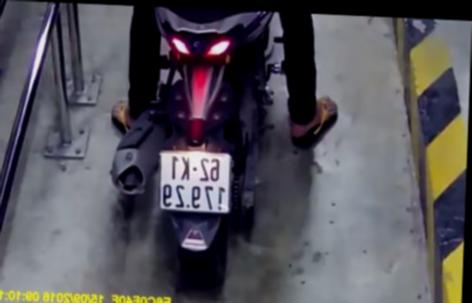License_Plate: (149, 145, 242, 220)
